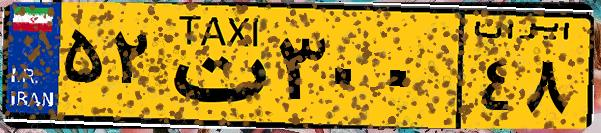0: (385, 28, 445, 110), (330, 28, 385, 110)
2: (110, 28, 158, 98)
3: (270, 28, 330, 110)
4: (475, 38, 525, 113)
5: (57, 26, 110, 100)
8: (525, 38, 570, 115)
ت: (158, 12, 270, 120)
